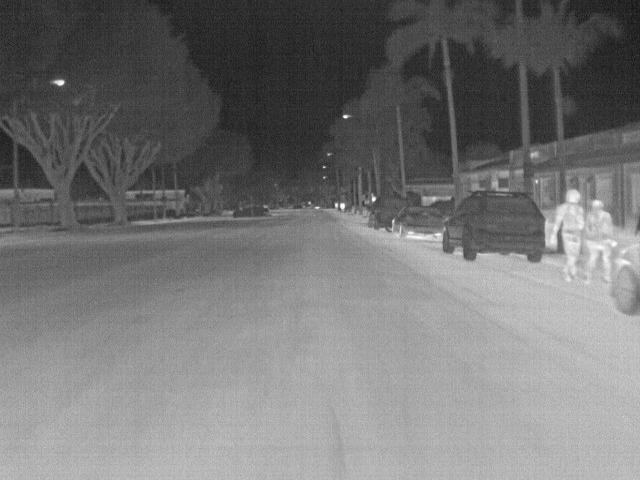car: (442, 192, 545, 264), (611, 242, 639, 315), (366, 193, 414, 231), (392, 205, 441, 240)
person: (549, 188, 585, 283), (585, 197, 613, 284)
